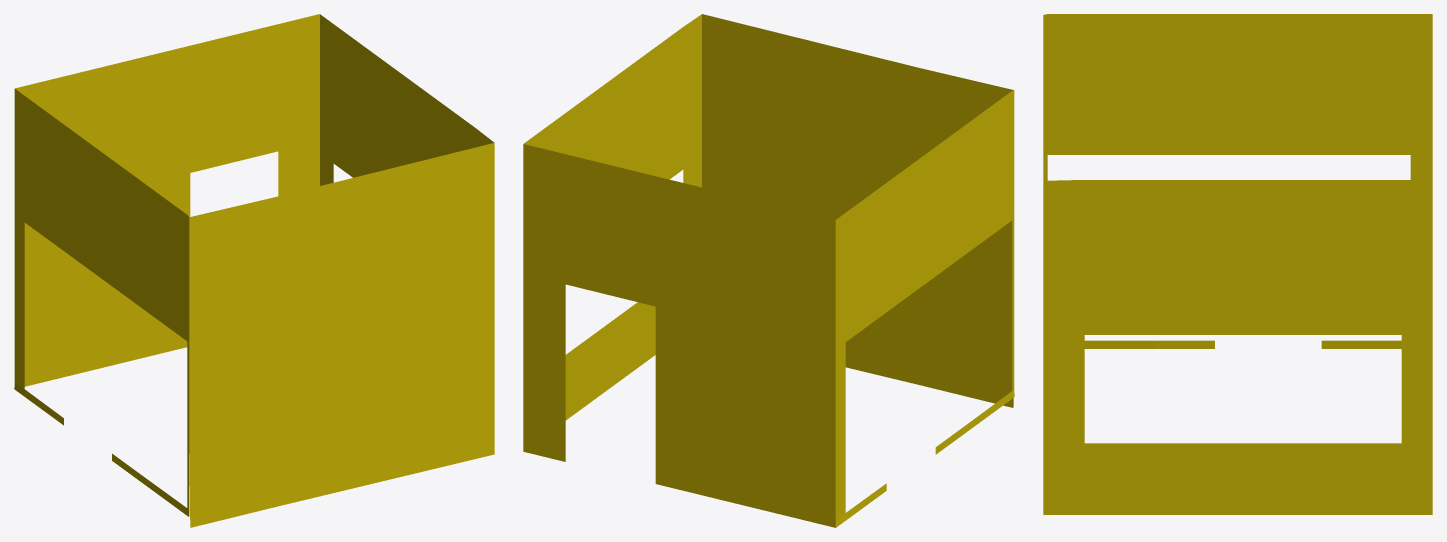
3 renders of one model, left to right at view 1: azimuth 30°, elevation 25°; view 2: azimuth 150°, elevation 25°; view 3: azimuth 270°, elevation 25°, orthographic. The views are drawn at different scales.
Visible parts, largest first — view 1: S_03_WP_01; view 2: S_03_WP_01; view 3: S_03_WP_01.
Part boxes in pixels (<box>): S_03_WP_01: <box>14,14,494,527</box>; S_03_WP_01: <box>523,14,1014,527</box>; S_03_WP_01: <box>1043,14,1432,514</box>.
Bounding box in the file's own units: 428 × 418 × 424.
